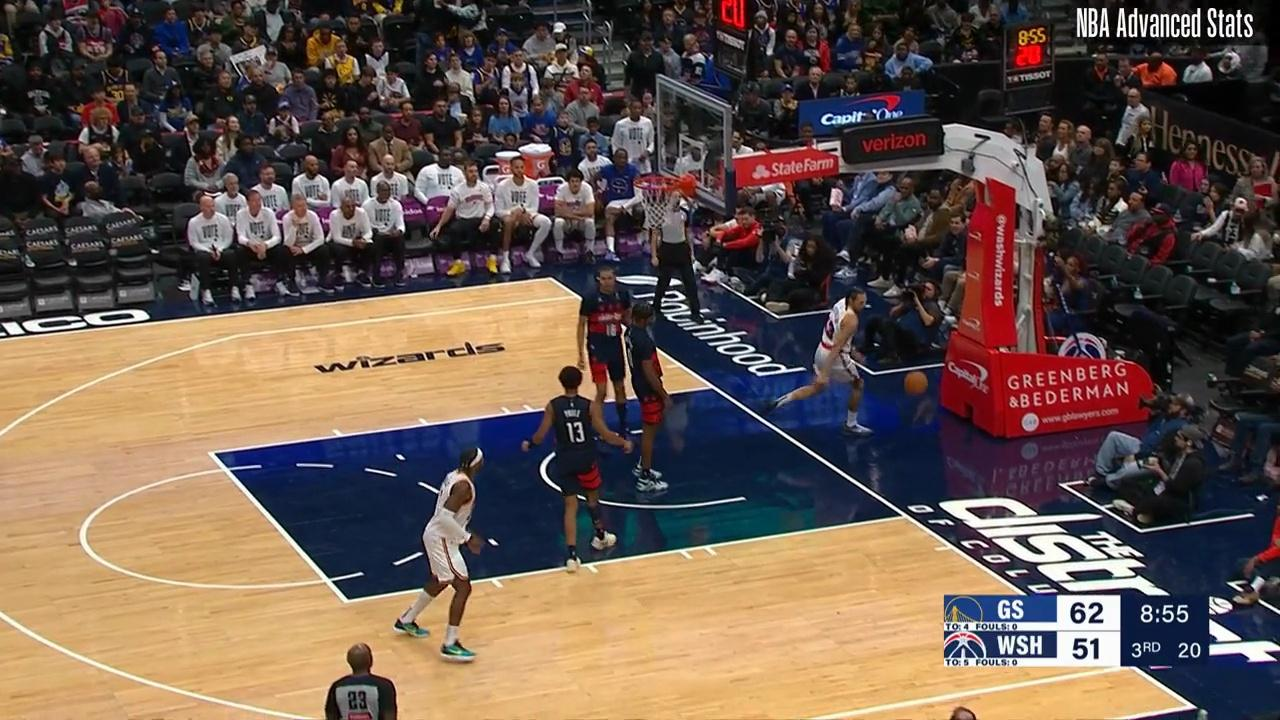basketball: (904, 373, 929, 394)
